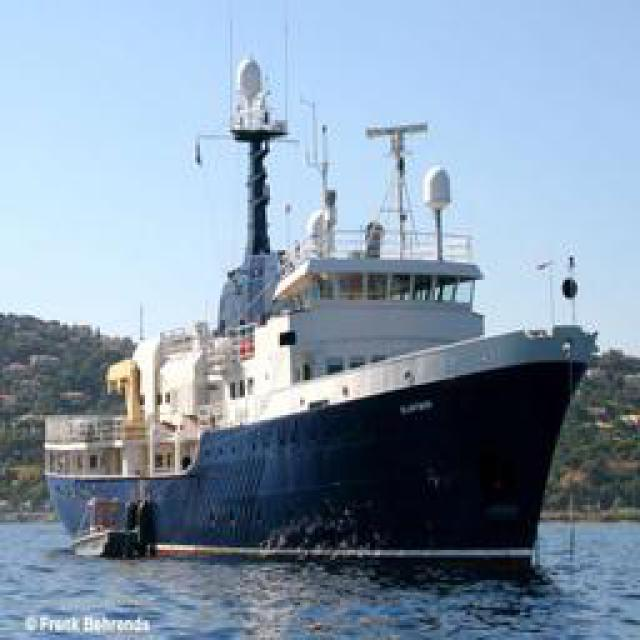Ship: (41, 105, 606, 558)
